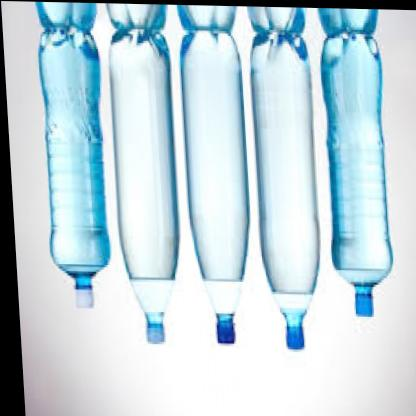Plastic: (240, 21, 326, 354), (25, 10, 115, 314), (172, 14, 254, 346), (105, 15, 185, 350), (312, 20, 400, 318)
